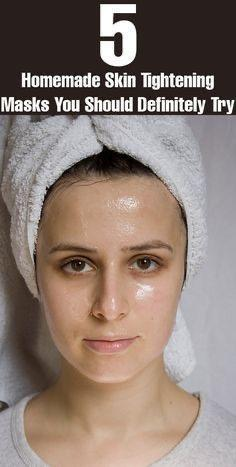Oily-Skin: (53, 186, 184, 260), (39, 396, 184, 461), (125, 273, 179, 354), (43, 280, 104, 348)
